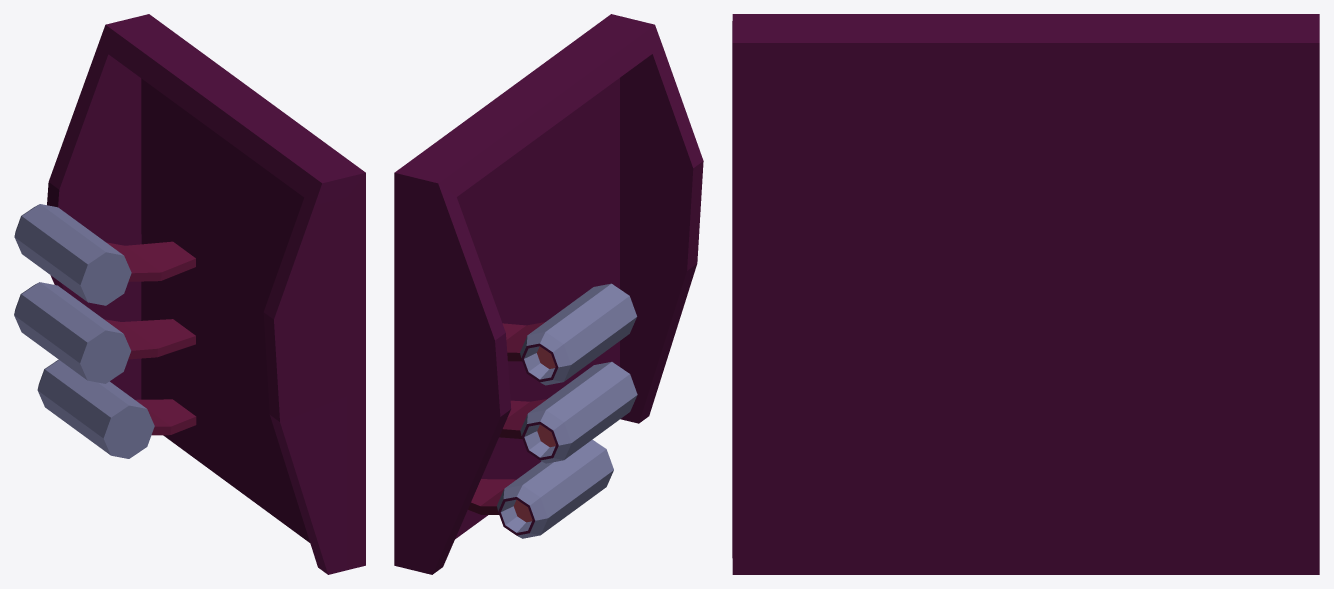
Rendered from JefeBI.fbx.
The picture shows the model from 3 angles, left to right: view 1: azimuth 30°, elevation 25°; view 2: azimuth 150°, elevation 25°; view 3: azimuth 270°, elevation 25°; orthographic projection. The views are drawn at different scales.
Parts seen in each view (by area): view 1: Brazo Izquierdo, Armas Izquierda; view 2: Brazo Izquierdo, Armas Izquierda; view 3: Brazo Izquierdo.
Boxes of the visible parts, x1,y1,x2,y2 form: Brazo Izquierdo: (47,14,365,574); Armas Izquierda: (14,204,196,458); Brazo Izquierdo: (394,14,703,574); Armas Izquierda: (468,283,637,538); Brazo Izquierdo: (732,14,1319,574).
Bounding box in the file's own units: 166 × 400 × 400.
